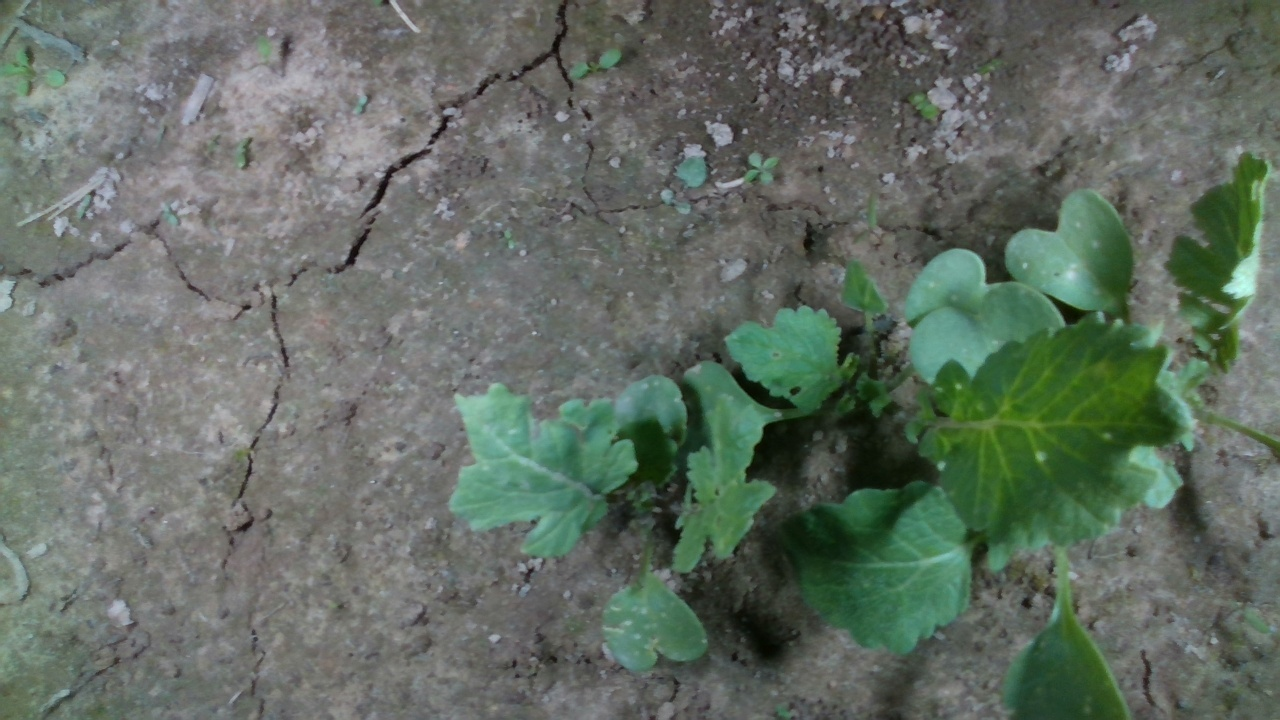weed: (568, 46, 624, 80), (739, 148, 780, 187), (905, 89, 943, 122)
